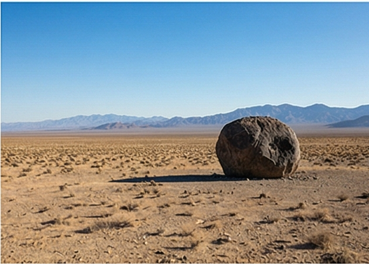rocks: (216, 117, 298, 177)
